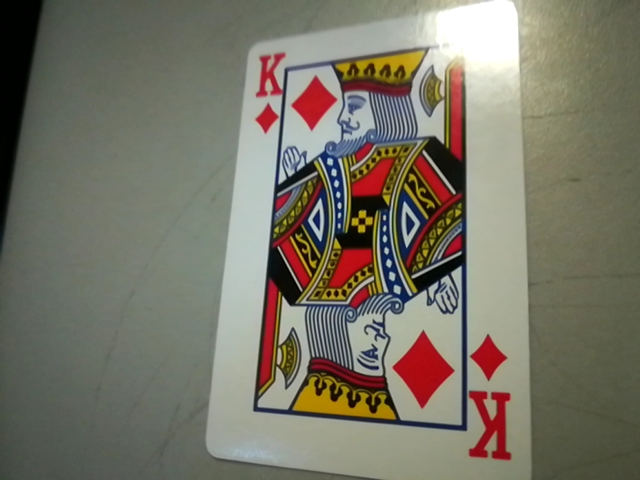fk k: (459, 330, 523, 473), (243, 50, 288, 133)
